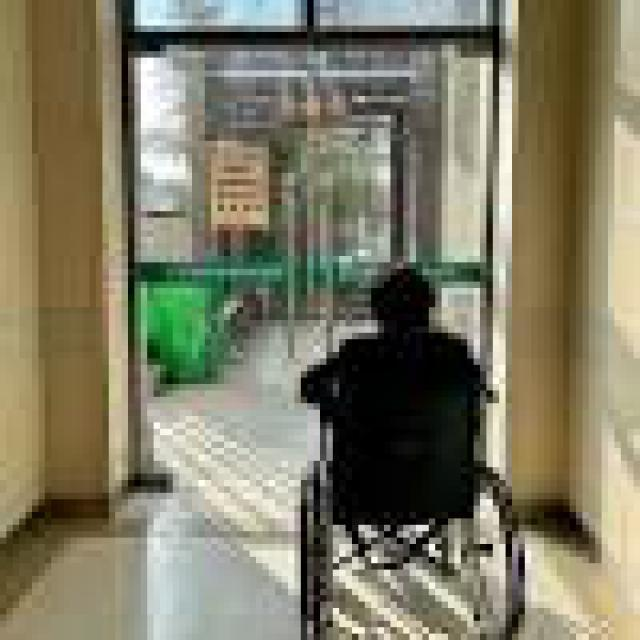wheelchairs: (237, 339, 525, 634)
